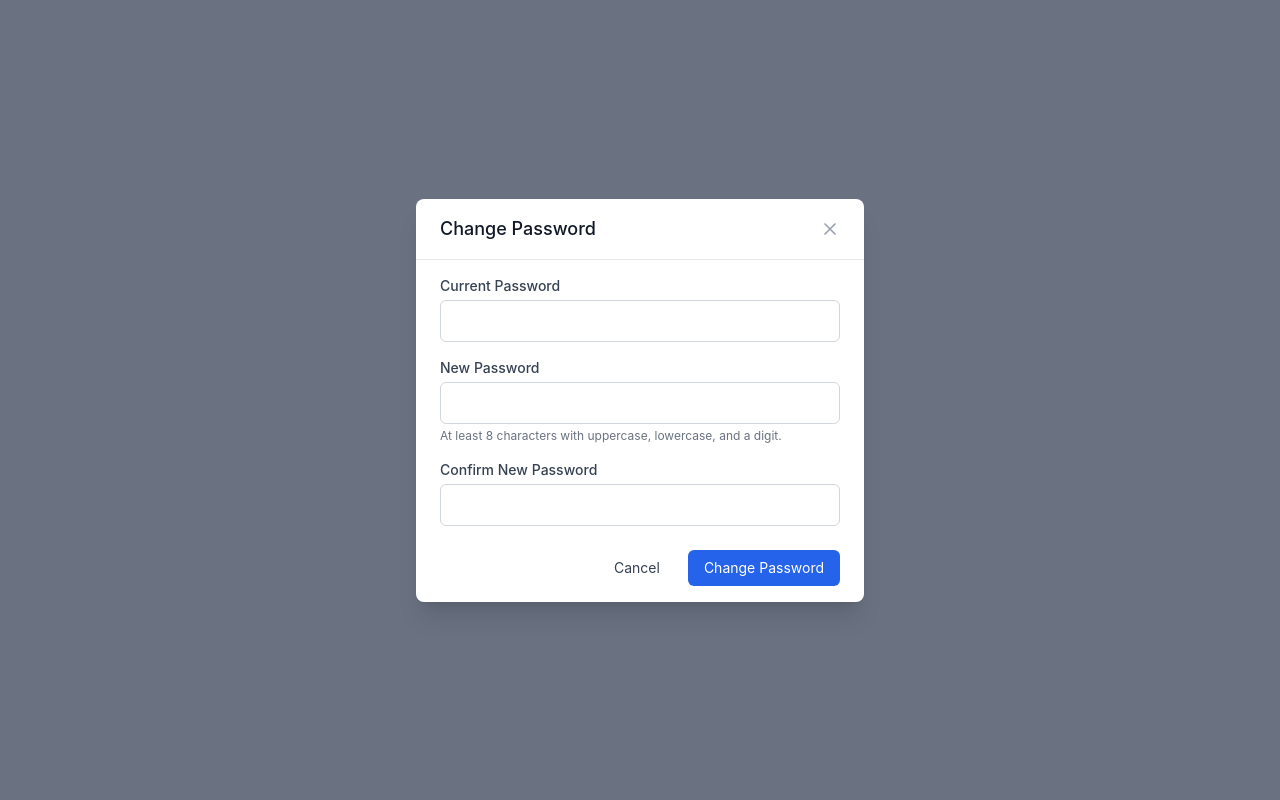
Test: ChangePasswordModal › shows error when password is missing uppercase
The image size is (1280, 800).
In the password field labelled "Current Password": (640, 320) [440,300,840,342], type "OldPass123"
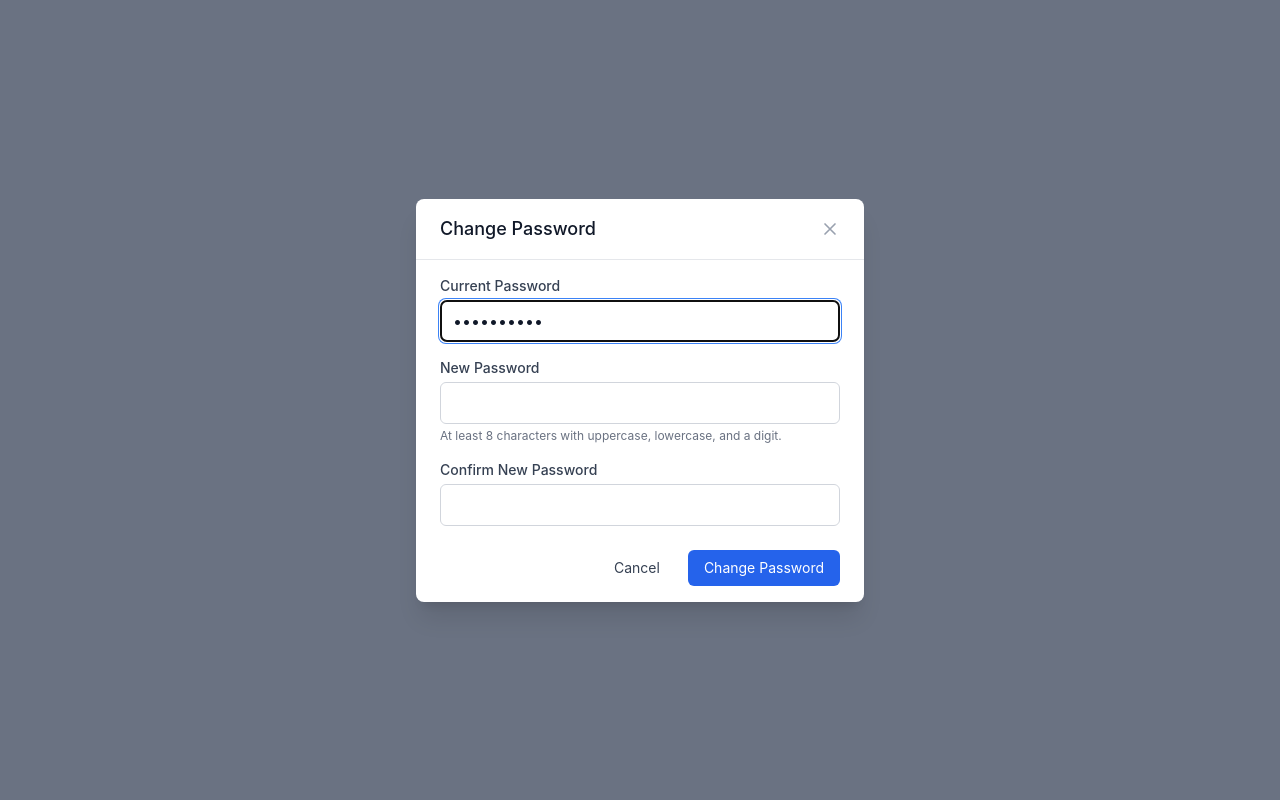
In the password field labelled "New Password": (640, 402) [440,382,840,424], type "lowercase1"
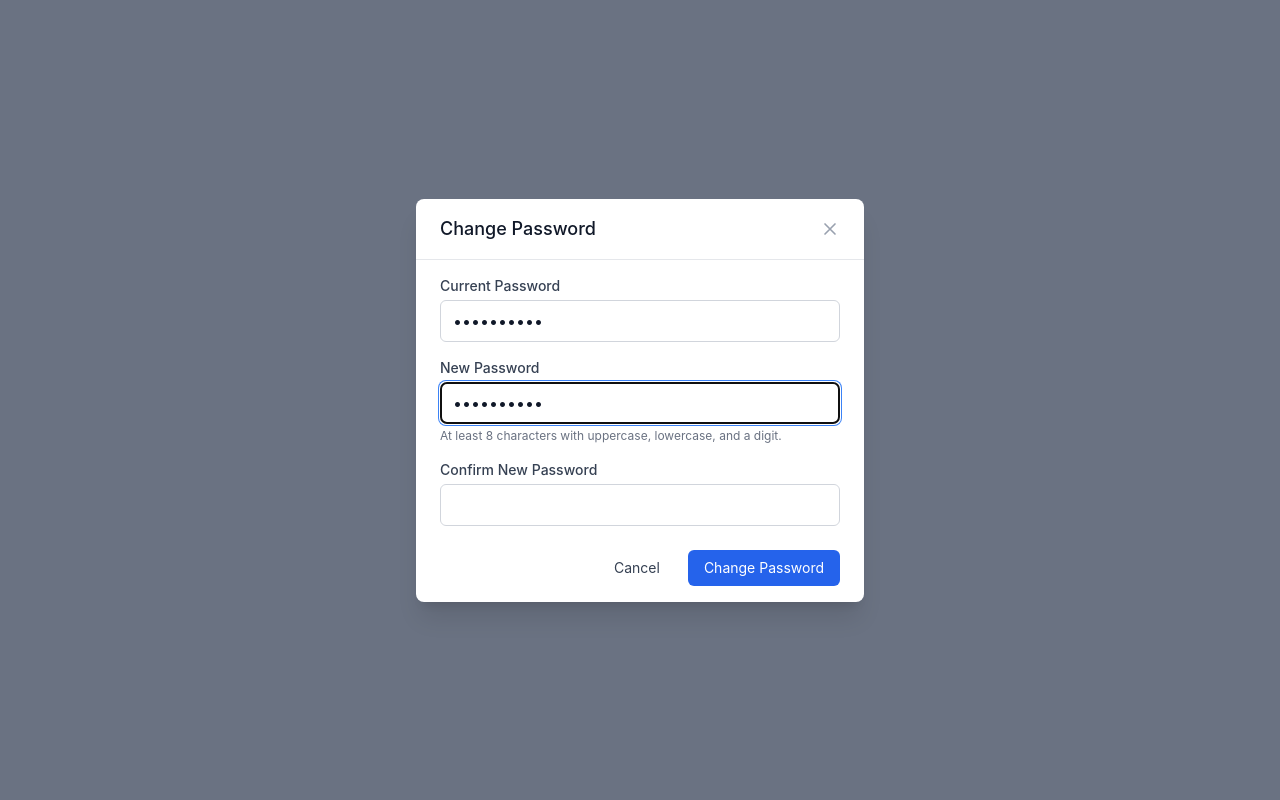
In the password field labelled "Confirm New Password": (640, 504) [440,484,840,526], type "lowercase1"
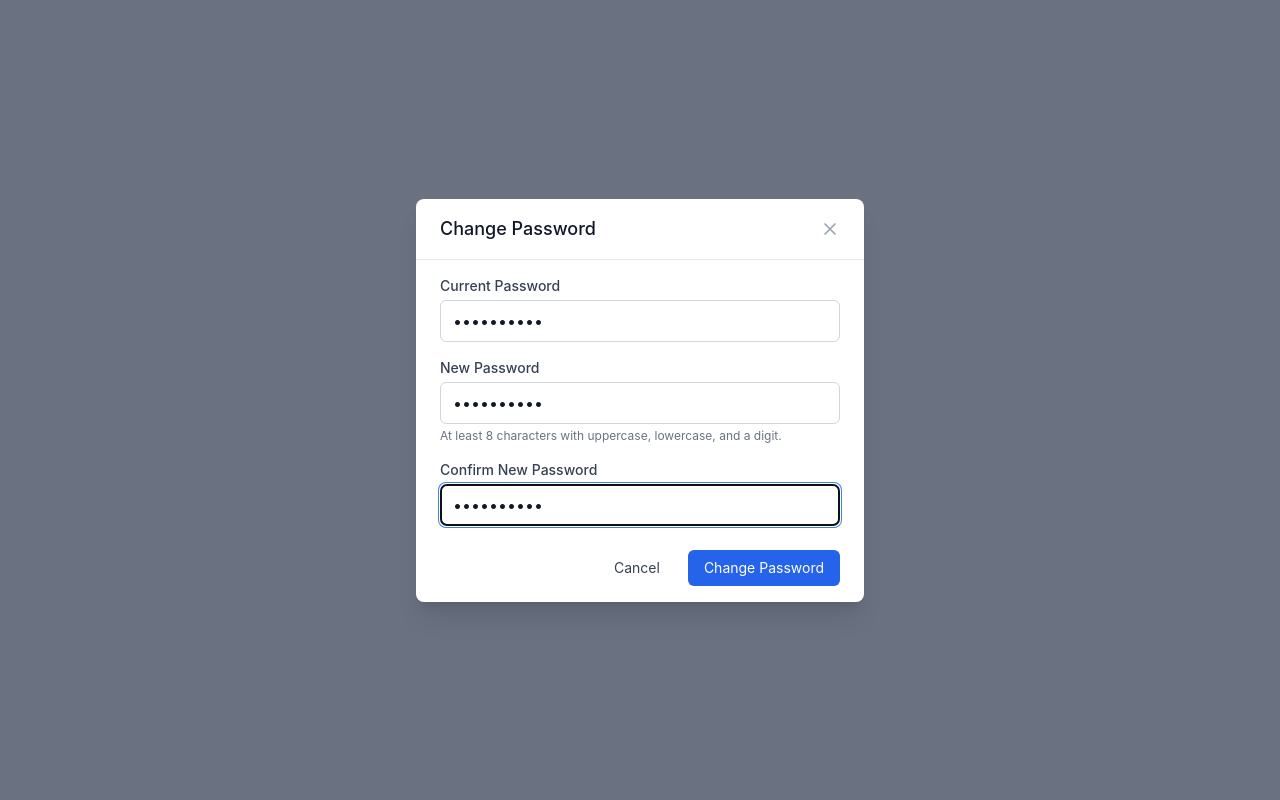
Click the button "Change Password": (764, 568) [688,550,840,586]
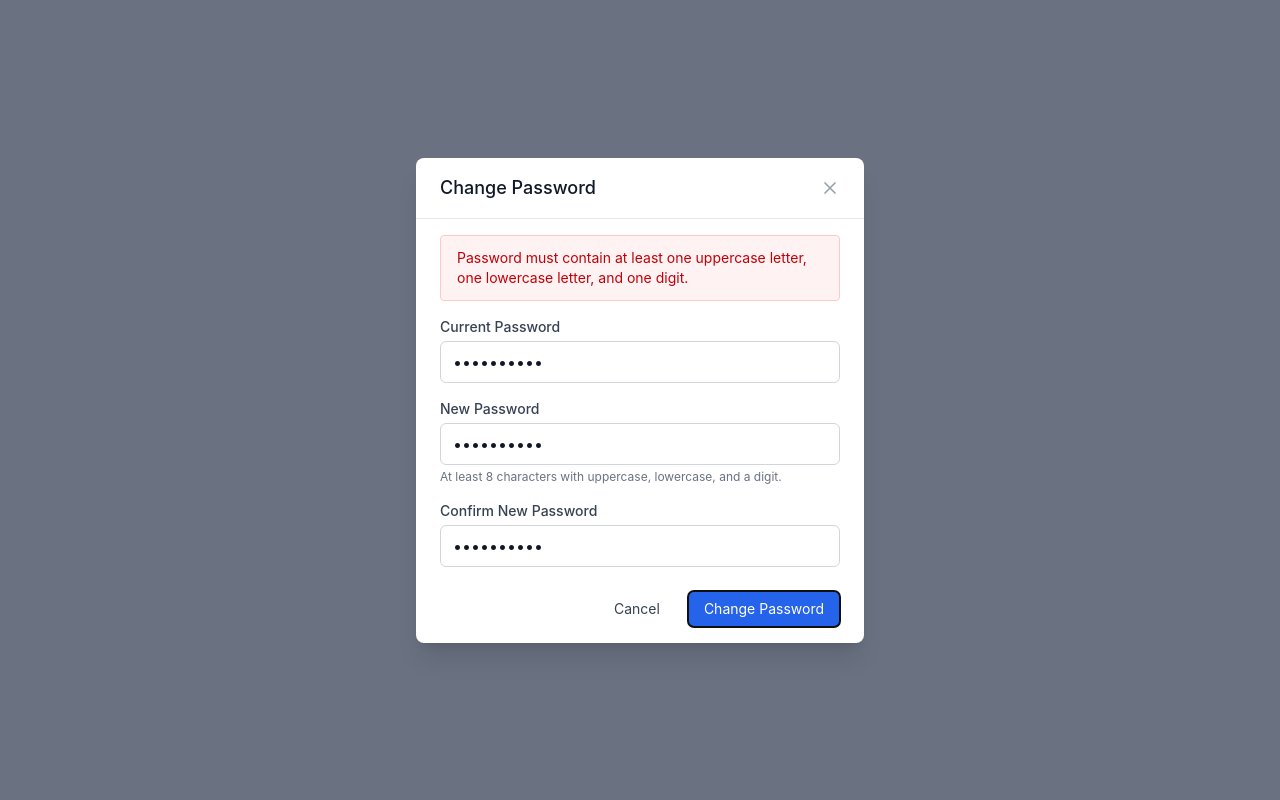
Expected: the message shows "uppercase", [457,248,807,286]
